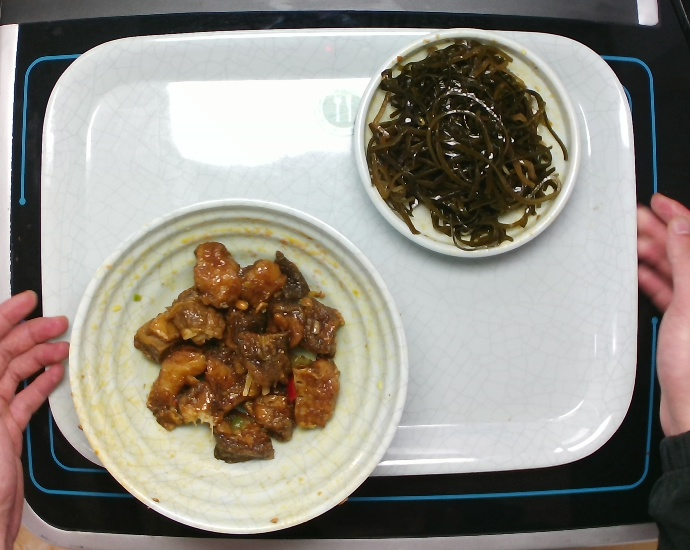JYsf-Da_Tang_Wan: (65, 192, 410, 537)
JYsf-Xiao_Yuan_Pan: (356, 24, 585, 266)
